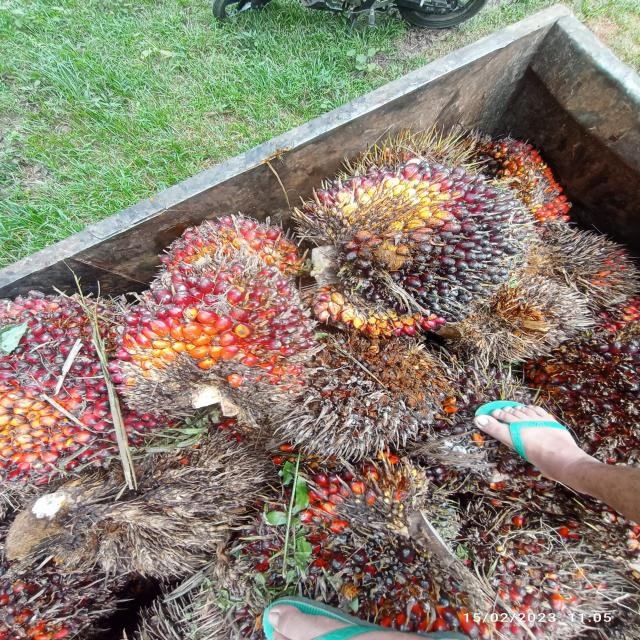fraksi 1: (277, 134, 543, 330)
fraksi 3: (252, 474, 542, 626), (100, 256, 318, 442), (0, 288, 153, 475), (141, 200, 315, 285), (491, 125, 591, 226)
fraksi 4: (286, 324, 444, 472)
